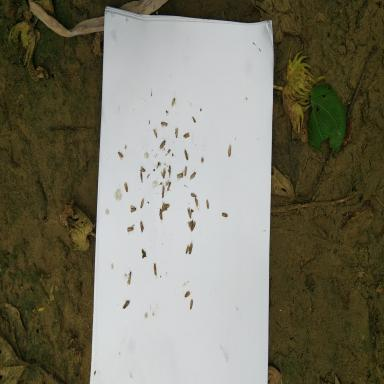pbw: (150, 262, 157, 278), (157, 207, 163, 224), (162, 200, 170, 212), (159, 137, 167, 149), (183, 290, 192, 300), (187, 218, 193, 232), (122, 300, 130, 309), (184, 148, 190, 160), (165, 181, 171, 193), (160, 167, 166, 179), (190, 169, 196, 180), (228, 145, 233, 158), (160, 120, 168, 128), (176, 173, 184, 181), (192, 198, 199, 207), (183, 165, 188, 177), (140, 220, 144, 234), (130, 204, 137, 212), (127, 227, 134, 235), (188, 240, 192, 254), (185, 244, 190, 255), (187, 207, 191, 220), (171, 97, 176, 107), (152, 128, 157, 138), (191, 221, 196, 231), (118, 150, 123, 160), (221, 211, 228, 218), (124, 181, 128, 192), (183, 132, 190, 138), (176, 128, 180, 138), (140, 198, 144, 208), (190, 297, 193, 310), (140, 166, 146, 172), (191, 192, 197, 198), (162, 182, 164, 199), (140, 172, 143, 183), (206, 199, 209, 209), (168, 165, 170, 177)
